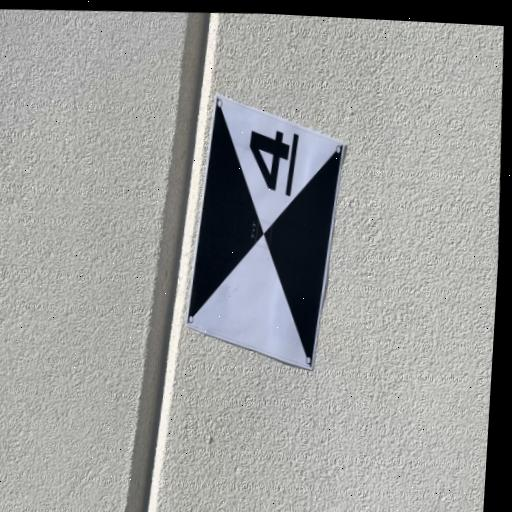target4: (187, 93, 345, 369)
